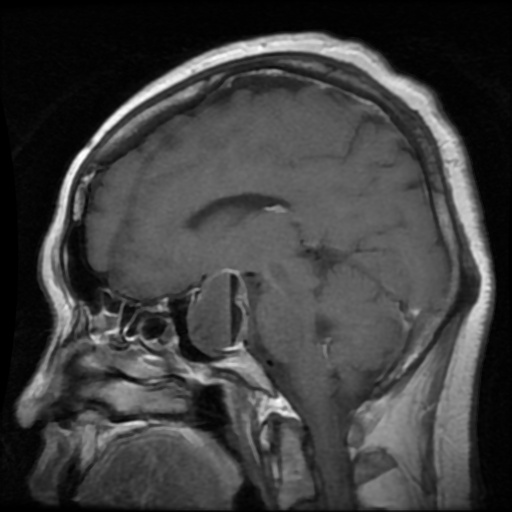pituitary: (188, 275, 233, 355)
